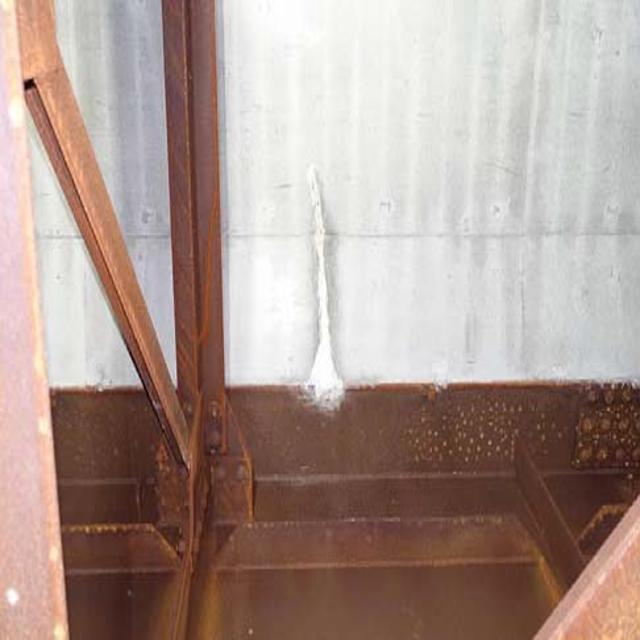freelime: (307, 180, 343, 429)
